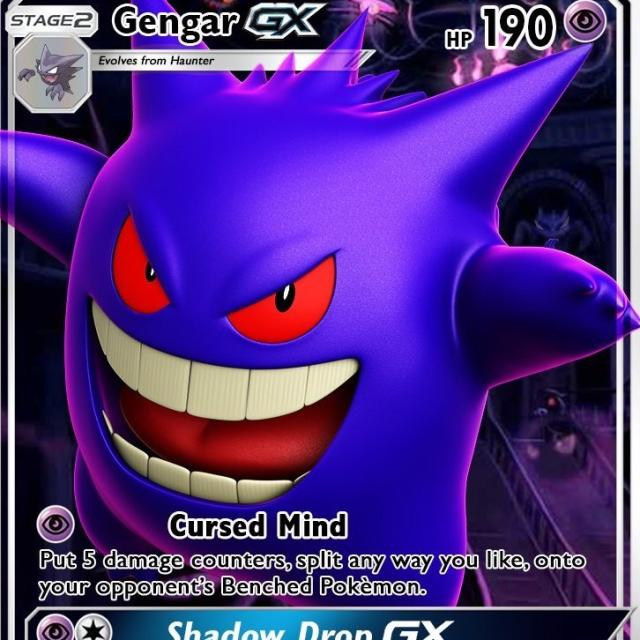Gengar: (22, 92, 568, 597)
